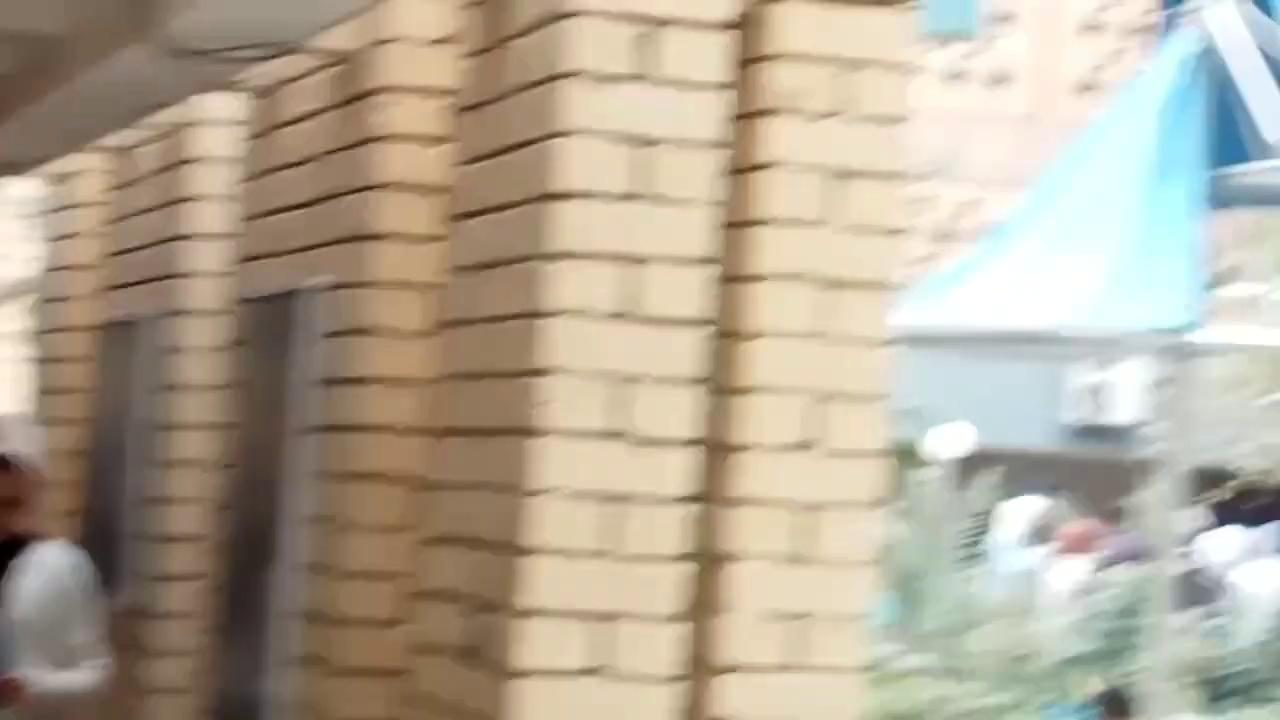person: (0, 448, 115, 718)
